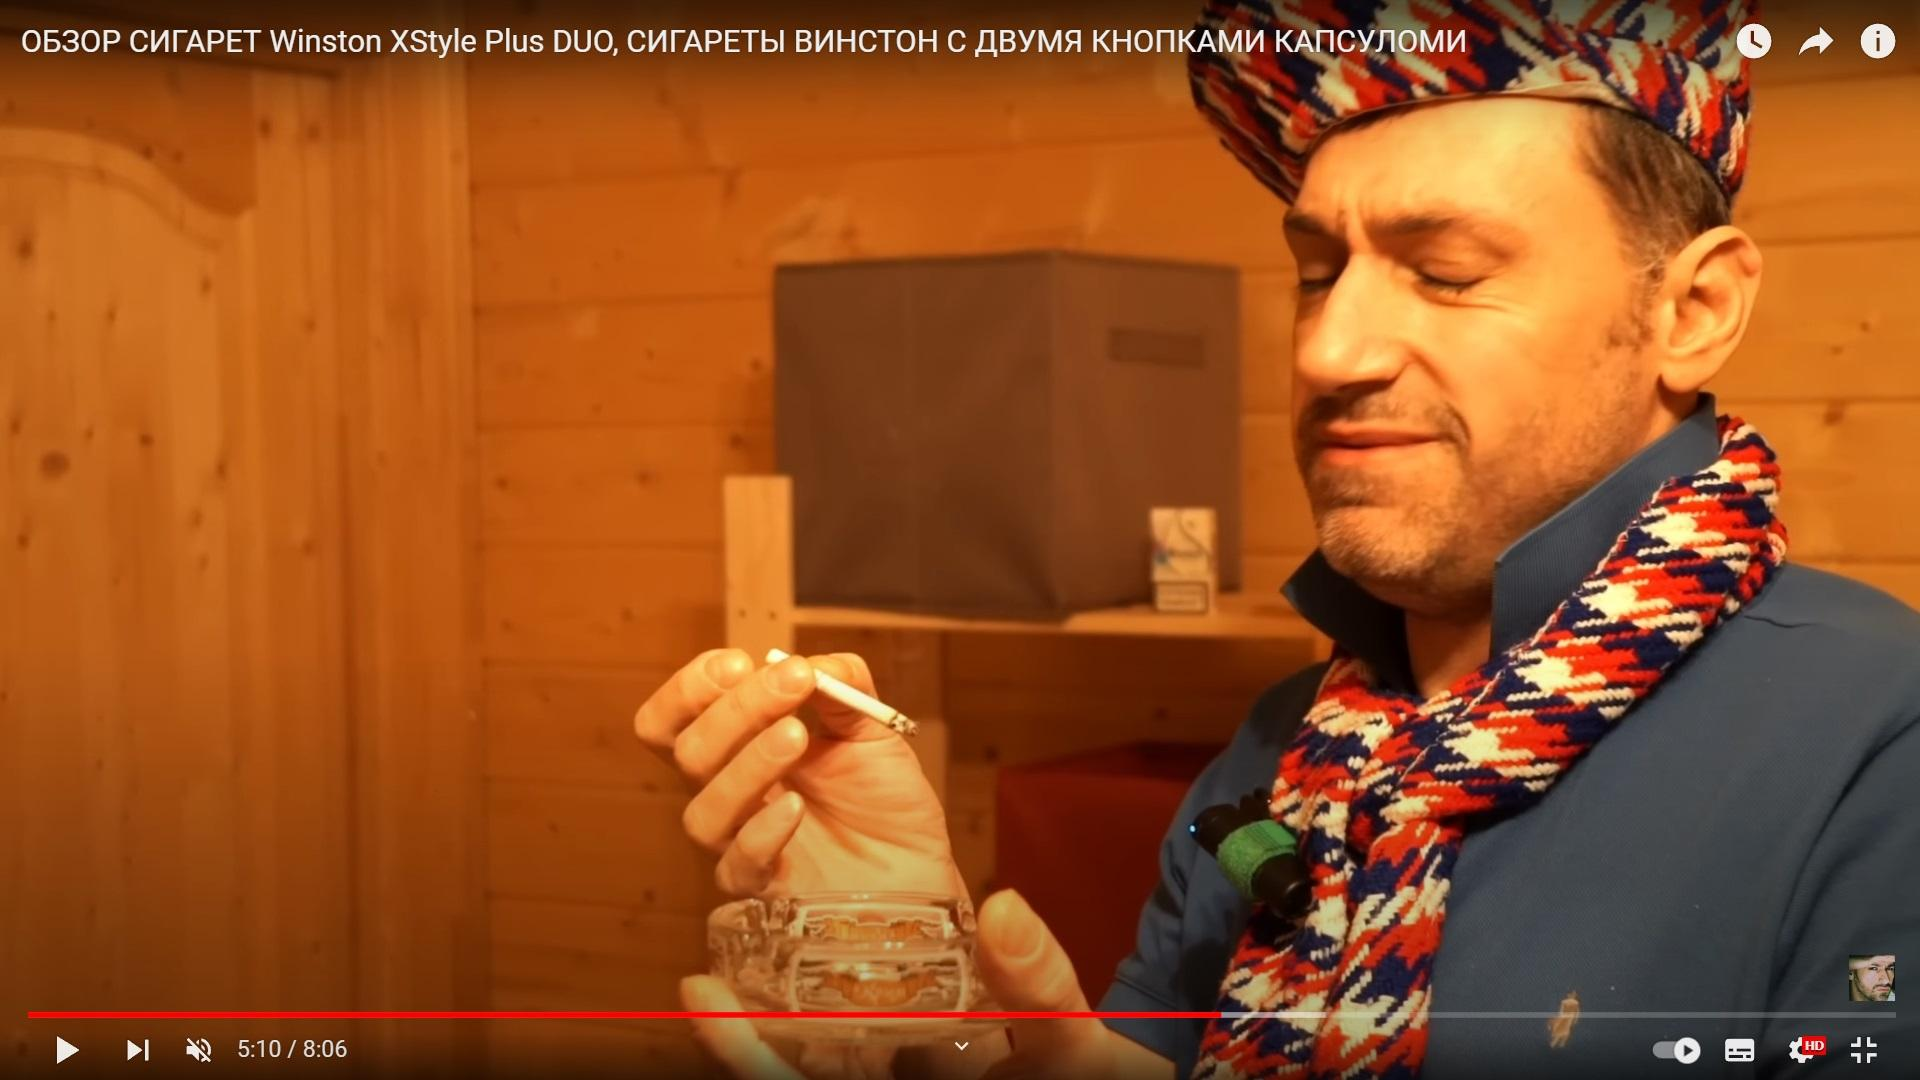cigarette: (764, 647, 920, 736)
